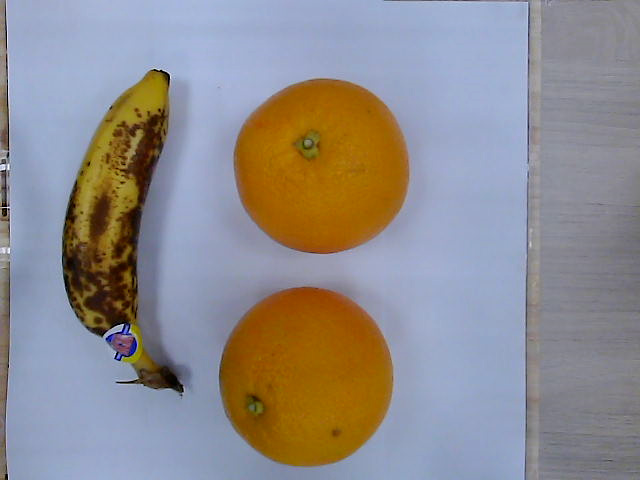fresh_orange: (234, 78, 410, 256), (219, 287, 393, 466)
rotten_banana: (62, 69, 182, 395)
